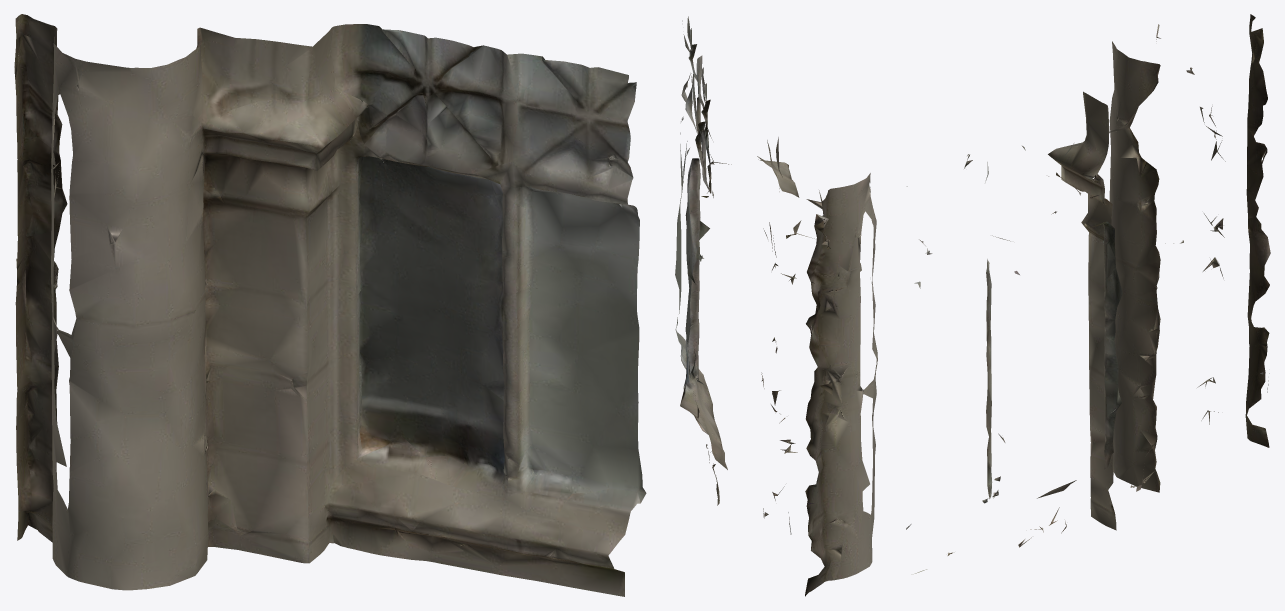
3 views of the same model, side by side, from view 1: azimuth 30°, elevation 25°; view 2: azimuth 150°, elevation 25°; view 3: azimuth 270°, elevation 25° (orthographic). The views are drawn at different scales.
Size of the model in its own units: 2.5 by 2.97 by 2.31.
Materials: 1 (1 with a texture image).
